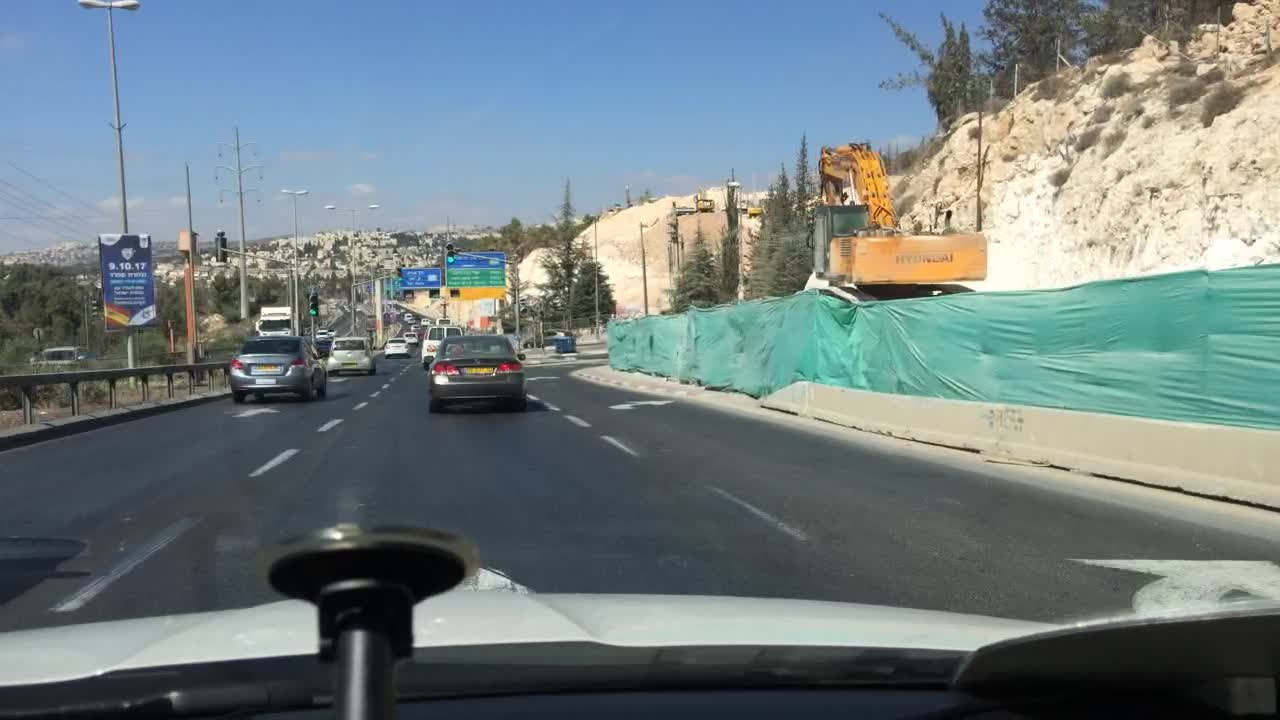car: (430, 333, 528, 413), (225, 335, 329, 404), (326, 336, 376, 375), (24, 343, 93, 369), (419, 327, 460, 369), (521, 327, 574, 347), (315, 328, 333, 364), (383, 339, 413, 357), (405, 330, 419, 342), (402, 312, 414, 326), (418, 316, 433, 326), (438, 316, 453, 324), (411, 322, 422, 330)
traffic light: (213, 234, 229, 260), (443, 237, 454, 263), (307, 291, 316, 319)
traffic sign: (447, 251, 506, 285), (399, 266, 442, 290), (459, 284, 501, 299)
truck: (808, 143, 985, 295), (256, 304, 296, 337), (394, 265, 404, 279)
